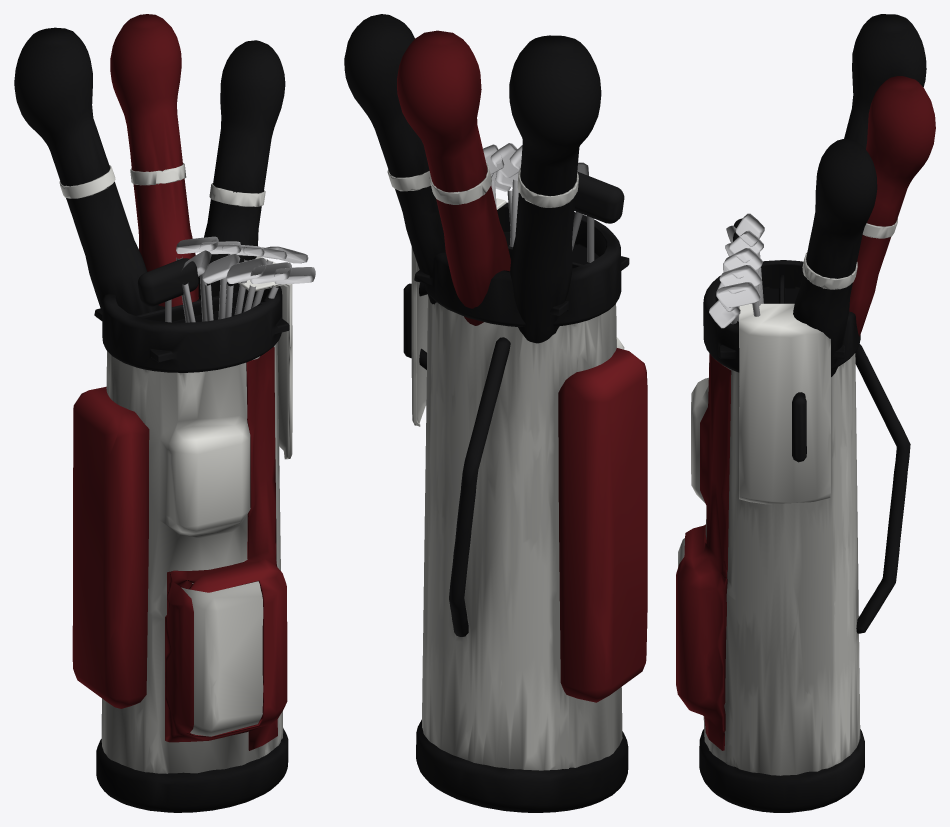
The model's file is golf_bag.glb.
The picture shows the model from 3 angles, left to right: view 1: azimuth 30°, elevation 25°; view 2: azimuth 150°, elevation 25°; view 3: azimuth 270°, elevation 25°; orthographic projection. The views are drawn at different scales.
Visible parts, largest first — view 1: golf_bag; view 2: golf_bag; view 3: golf_bag.
Boxes of the visible parts, x1,y1,x2,y2 form: golf_bag: [14, 14, 315, 812]; golf_bag: [344, 14, 647, 812]; golf_bag: [676, 14, 935, 812].
Bounding box in the file's own units: 0.4803 × 1.36 × 0.4508.
